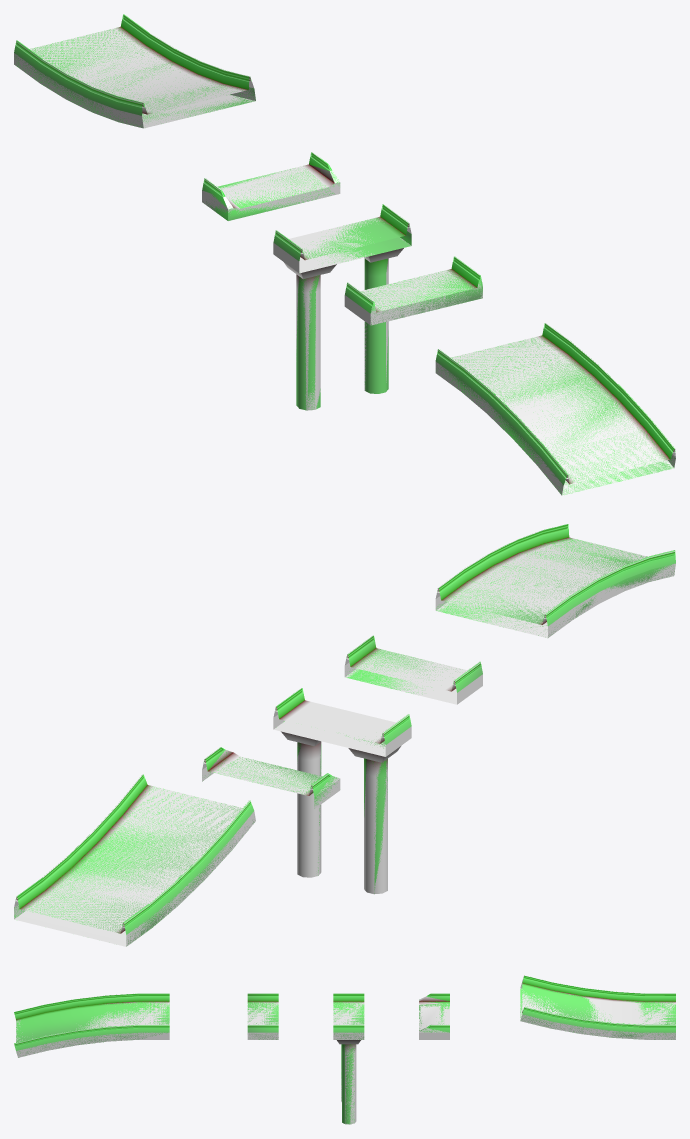
File: bridge_set10x4.fbx
3 renders of one model, top to bottom at view 1: azimuth 30°, elevation 25°; view 2: azimuth 150°, elevation 25°; view 3: azimuth 270°, elevation 25°, orthographic. The views are drawn at different scales.
Parts seen in each view (by area): view 1: bridge_segment10x4_level, bridge_segment10x4_rise, bridge_segment10x4_levelCOL, bridge_segment10x4_riseCOL, bridge_support_10x4, bridge_segment10x4_mid, bridge_segment10x4_end, bridge_segment10x4_endFloor, bridge_support_10x4_COL, bridge_segment10x4_midCOL, bridge_segment10x4_endCOL, bridge_segment10x4_endFloorCOL; view 2: bridge_segment10x4_rise, bridge_segment10x4_level, bridge_segment10x4_riseCOL, bridge_segment10x4_levelCOL, bridge_support_10x4, bridge_segment10x4_mid, bridge_segment10x4_end, bridge_segment10x4_endFloor, bridge_segment10x4_endCOL, bridge_segment10x4_endFloorCOL, bridge_support_10x4_COL, bridge_segment10x4_midCOL; view 3: bridge_segment10x4_rise, bridge_segment10x4_level, bridge_segment10x4_levelCOL, bridge_segment10x4_riseCOL, bridge_segment10x4_end, bridge_segment10x4_mid, bridge_segment10x4_endFloor, bridge_support_10x4, bridge_segment10x4_midCOL, bridge_segment10x4_endCOL, bridge_support_10x4_COL, bridge_segment10x4_endFloorCOL.
Boxes of the visible parts, x1,y1,x2,y2 form: bridge_segment10x4_level: [435, 323, 675, 495]; bridge_segment10x4_rise: [14, 14, 255, 128]; bridge_segment10x4_levelCOL: [435, 323, 675, 494]; bridge_segment10x4_riseCOL: [14, 14, 255, 126]; bridge_support_10x4: [284, 248, 403, 410]; bridge_segment10x4_mid: [273, 204, 411, 273]; bridge_segment10x4_end: [344, 256, 482, 325]; bridge_segment10x4_endFloor: [202, 152, 340, 220]; bridge_support_10x4_COL: [296, 258, 388, 410]; bridge_segment10x4_midCOL: [273, 204, 411, 262]; bridge_segment10x4_endCOL: [345, 256, 482, 324]; bridge_segment10x4_endFloorCOL: [202, 152, 339, 220]; bridge_segment10x4_rise: [14, 774, 255, 946]; bridge_segment10x4_level: [435, 524, 675, 638]; bridge_segment10x4_riseCOL: [14, 774, 254, 943]; bridge_segment10x4_levelCOL: [436, 524, 675, 635]; bridge_support_10x4: [281, 731, 400, 894]; bridge_segment10x4_mid: [273, 688, 411, 756]; bridge_segment10x4_end: [344, 635, 482, 704]; bridge_segment10x4_endFloor: [202, 747, 340, 808]; bridge_segment10x4_endCOL: [346, 635, 482, 693]; bridge_segment10x4_endFloorCOL: [203, 747, 338, 805]; bridge_support_10x4_COL: [297, 742, 387, 893]; bridge_segment10x4_midCOL: [275, 688, 411, 748]; bridge_segment10x4_rise: [520, 975, 675, 1039]; bridge_segment10x4_level: [14, 993, 169, 1057]; bridge_segment10x4_levelCOL: [14, 993, 169, 1057]; bridge_segment10x4_riseCOL: [520, 975, 675, 1039]; bridge_segment10x4_end: [247, 993, 278, 1039]; bridge_segment10x4_mid: [333, 993, 364, 1039]; bridge_segment10x4_endFloor: [419, 993, 449, 1039]; bridge_support_10x4: [337, 1040, 360, 1124]; bridge_segment10x4_midCOL: [333, 993, 364, 1039]; bridge_segment10x4_endCOL: [247, 993, 278, 1039]; bridge_support_10x4_COL: [341, 1044, 354, 1123]; bridge_segment10x4_endFloorCOL: [419, 993, 449, 1032].
Size of the model in its own units: 10 by 17.07 by 85.
